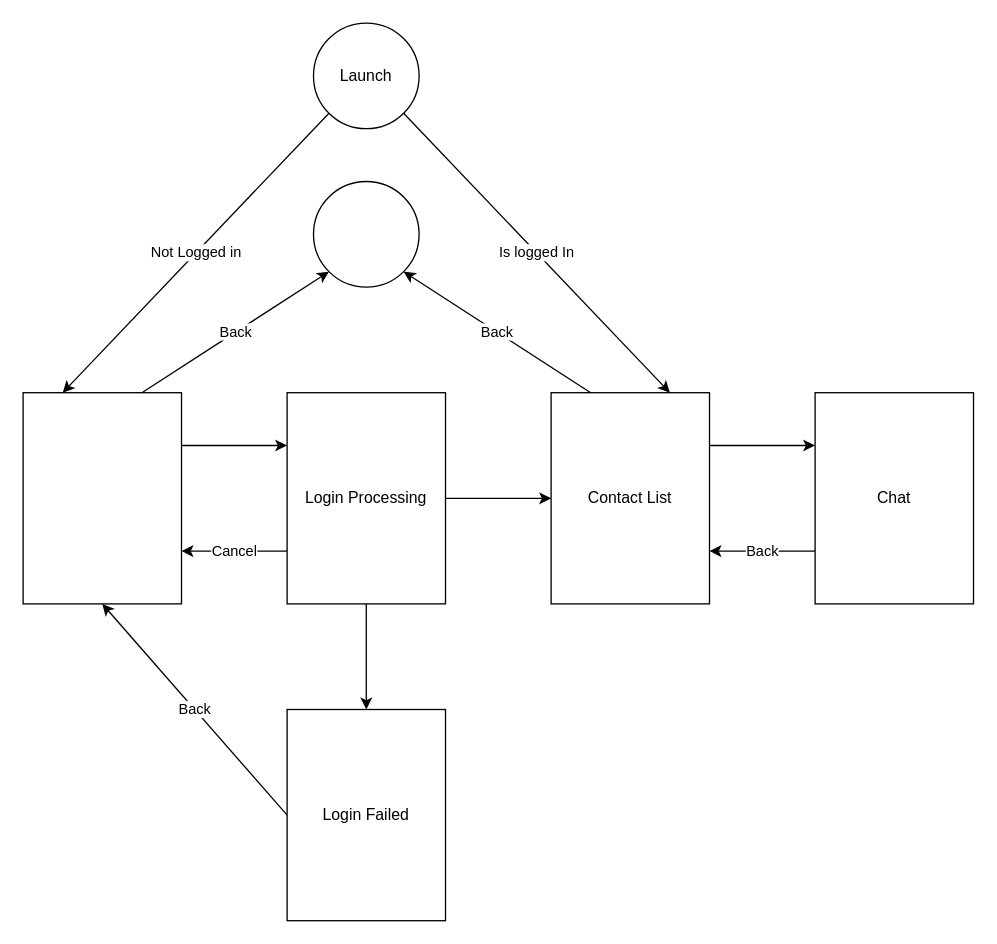
The diagram is 997 pixels wide and 944 high, and some of its shapes have lost their labels. Each missing label, with the box of its shape:
Finish: (312, 180, 419, 287)
Login: (22, 391, 182, 604)
